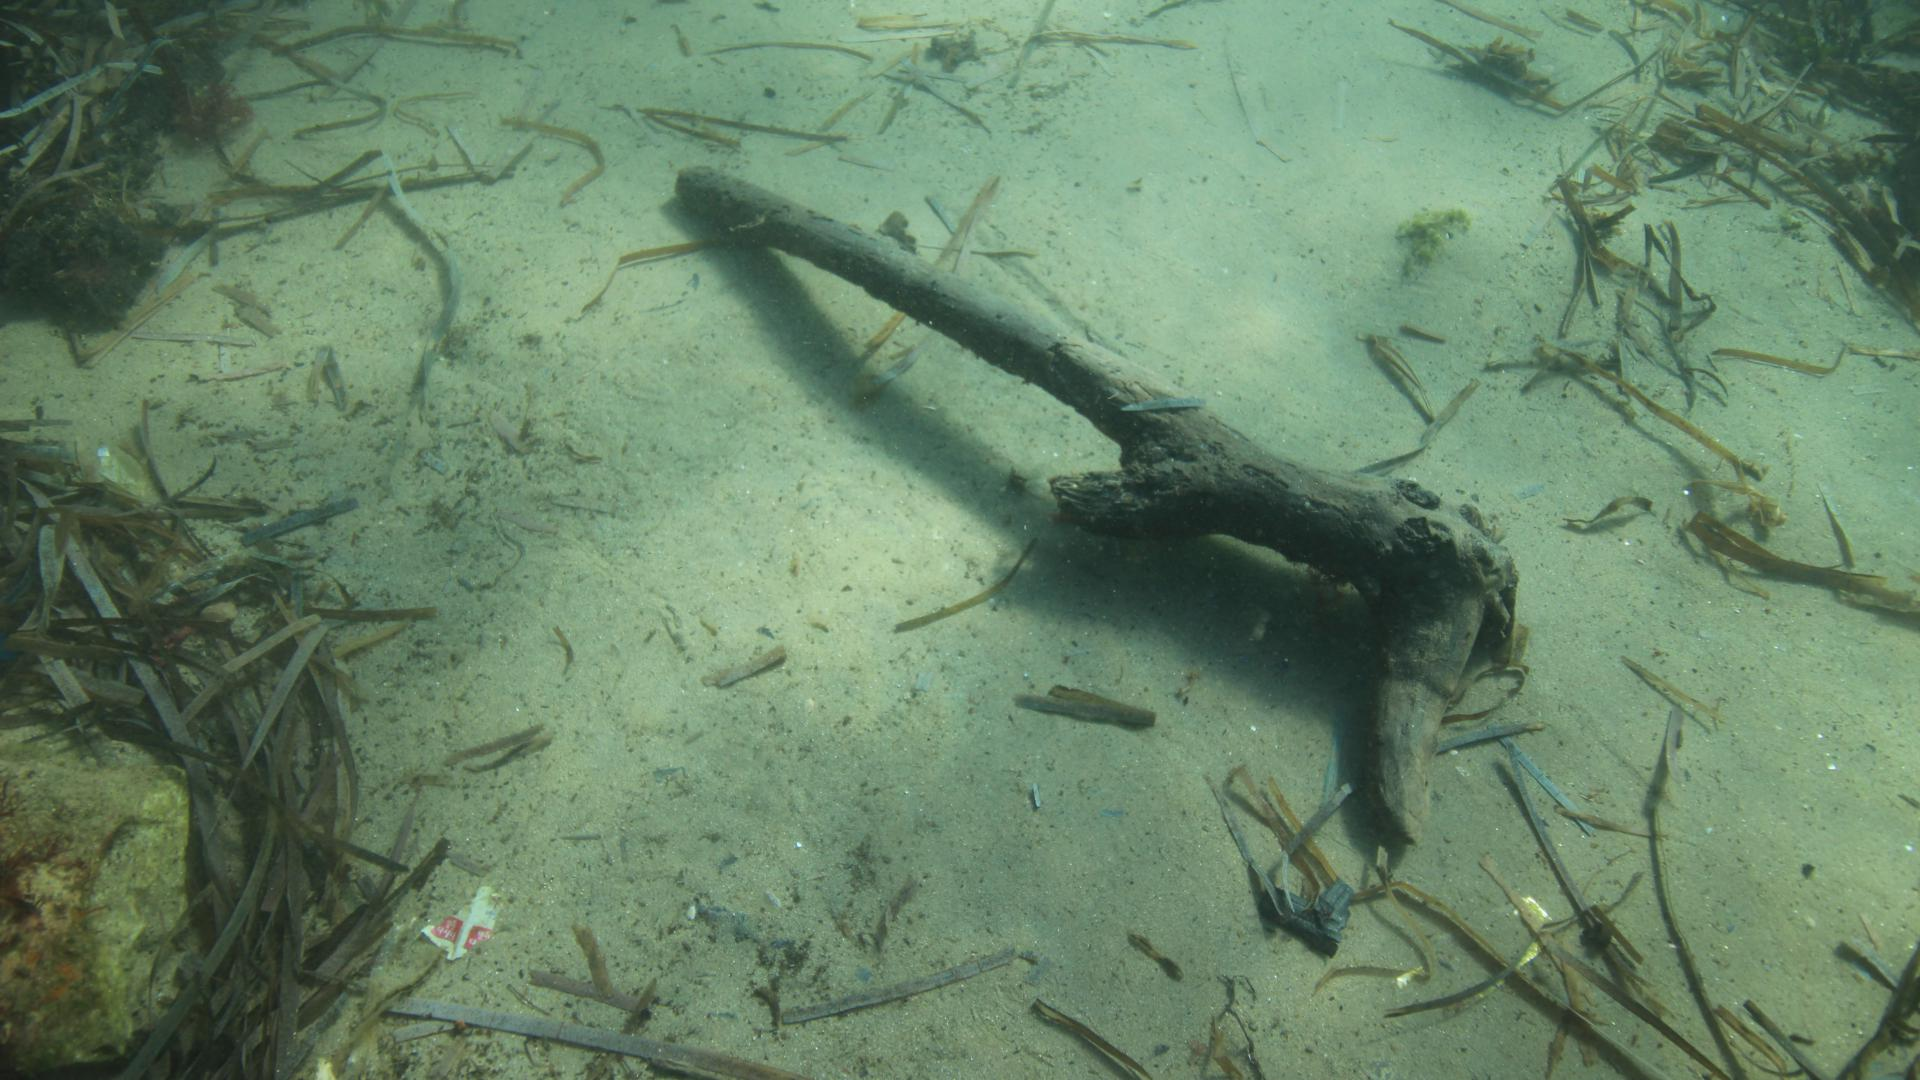wood: (670, 164, 1510, 845)
